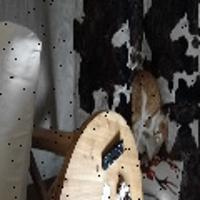asleep: (131, 70, 170, 148)
